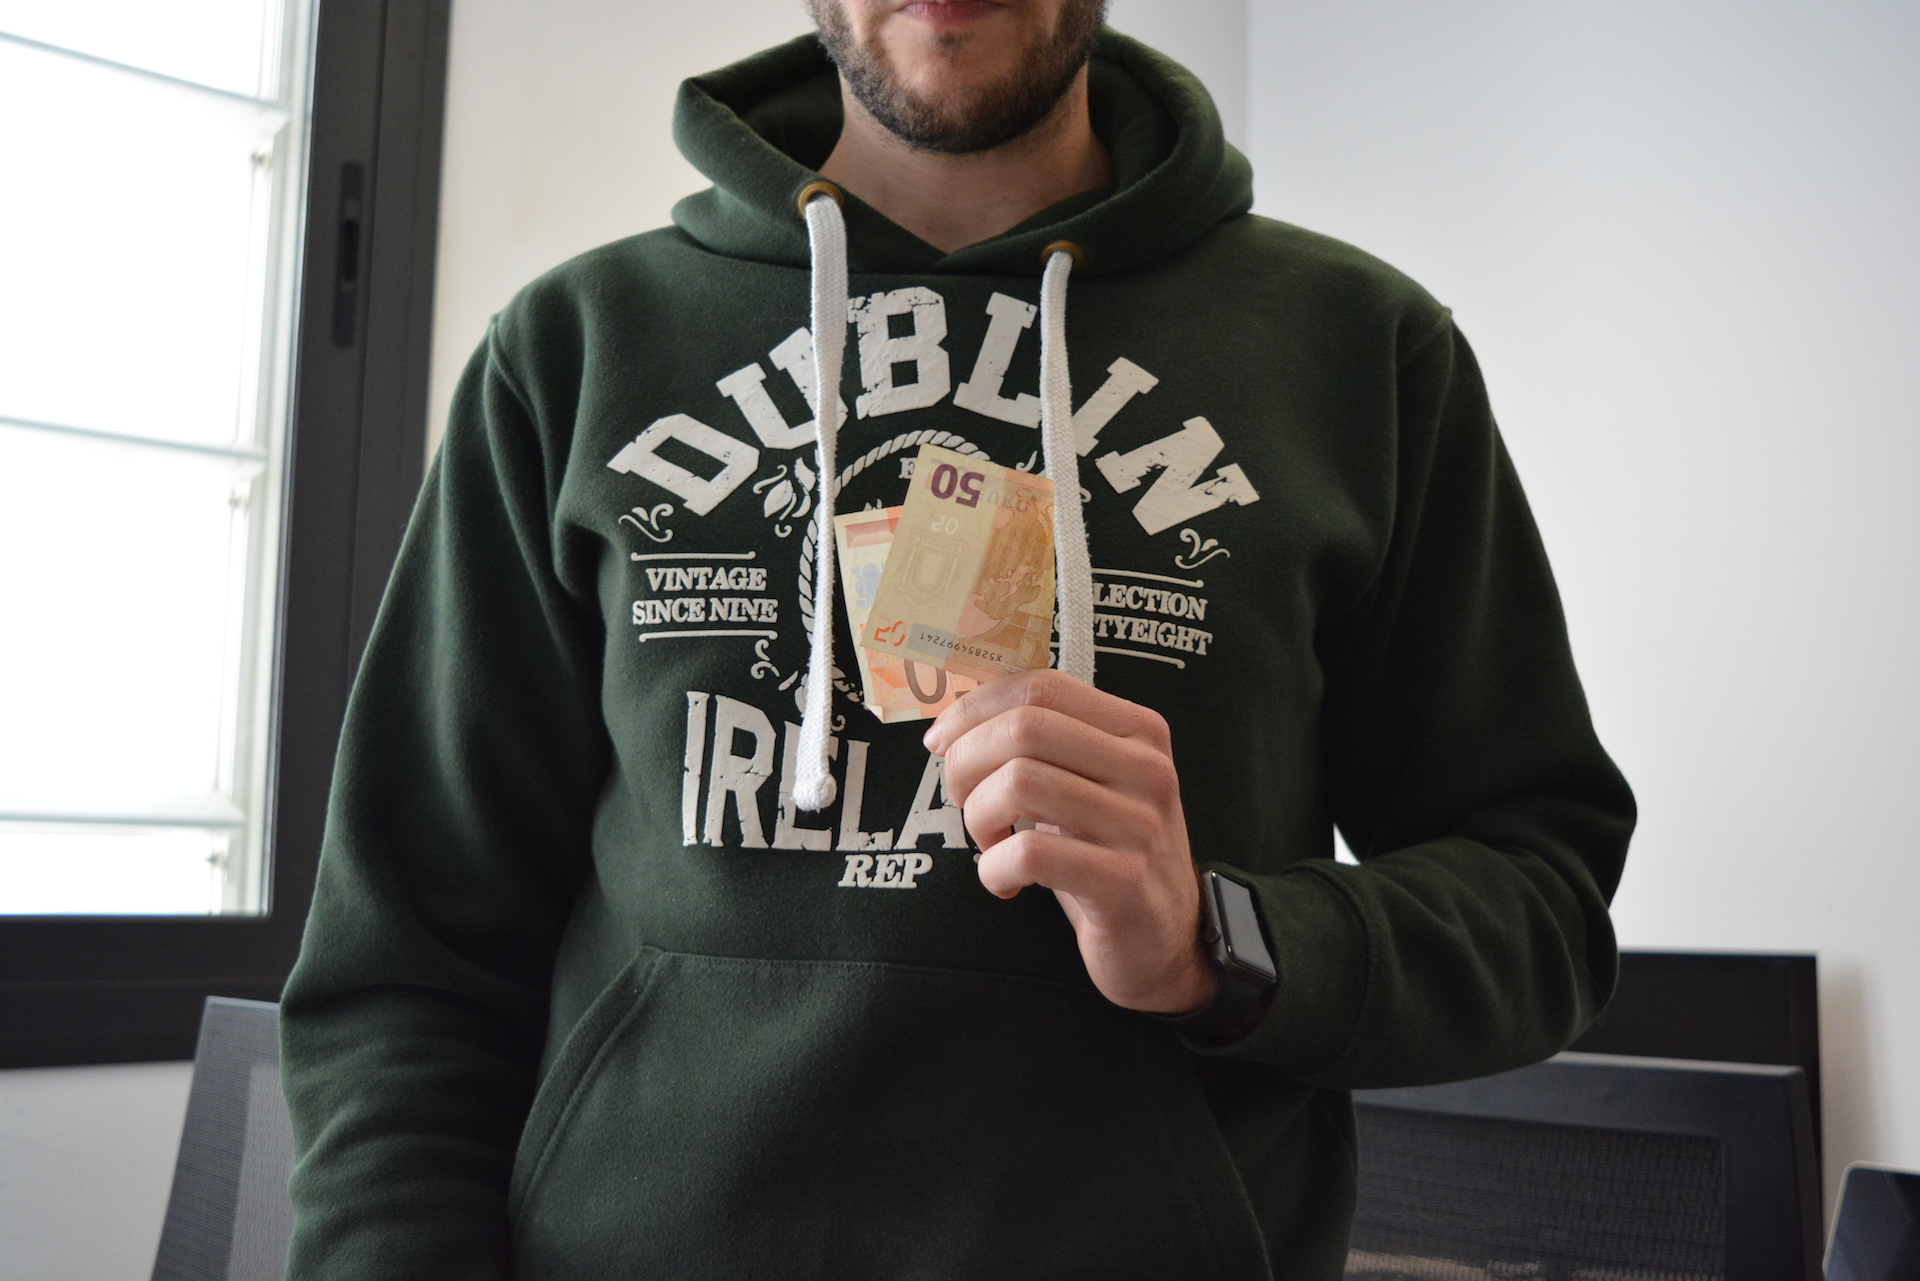billete: (832, 440, 1058, 728)
